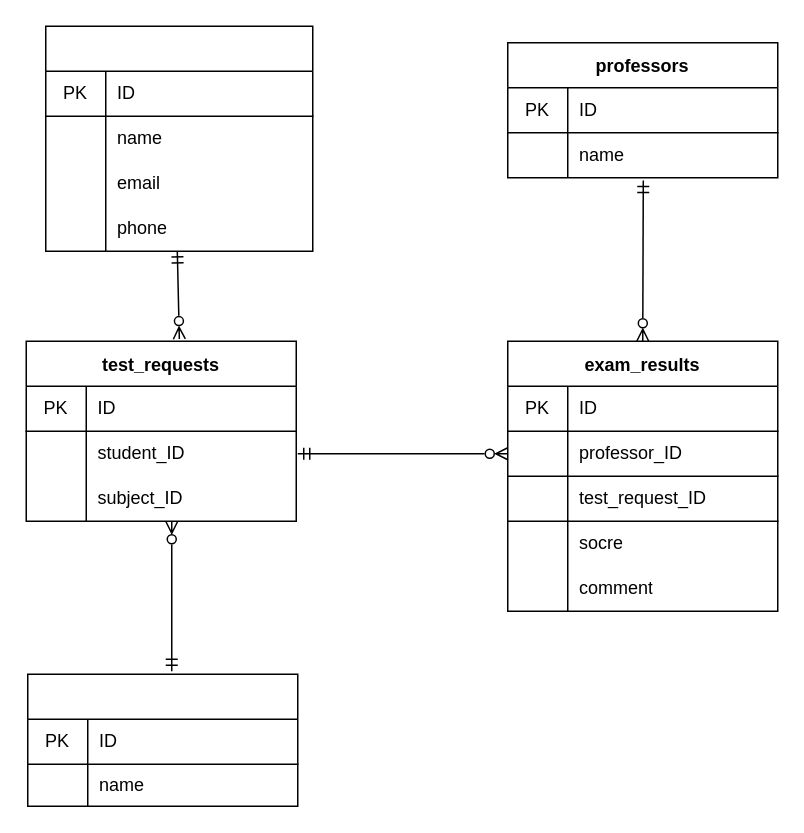
The diagram is 804 pixels wide and 833 high, and some of its shapes have lost their labels. Here are the shapes that lost their labels. From the top down, the box of each, then its label:
(44, 25, 313, 251): students
(26, 673, 298, 806): subjects
